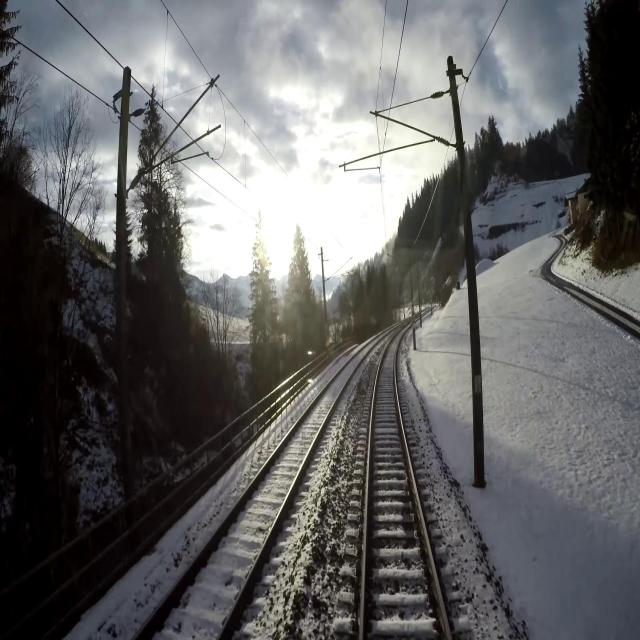rail-track: (138, 340, 375, 639), (364, 329, 448, 639)
